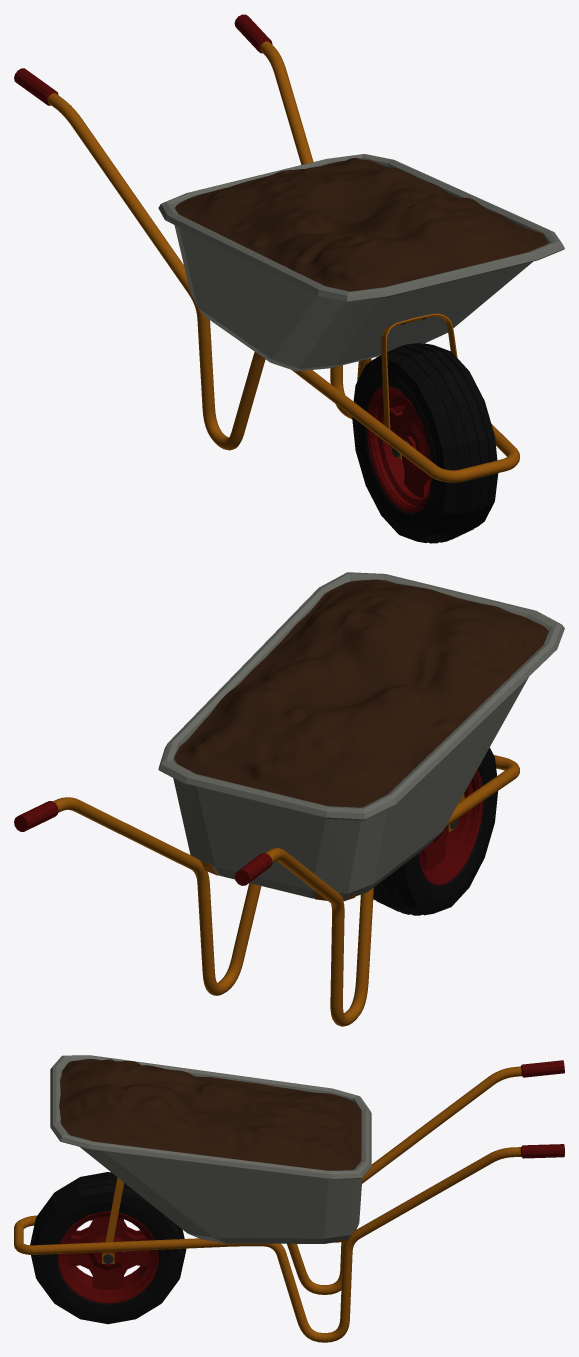
3 renders of one model, top to bottom at view 1: azimuth 30°, elevation 25°; view 2: azimuth 150°, elevation 25°; view 3: azimuth 270°, elevation 25°, orthographic. The views are drawn at different scales.
Parts seen in each view (by area): view 1: am146_22_05, am146_22_06, am146_22_15, am146_22_14, am146_22_12, am146_22_09, am146_22_13, am146_22_08; view 2: am146_22_05, am146_22_06, am146_22_14, am146_22_15, am146_22_12, am146_22_08, am146_22_13; view 3: am146_22_05, am146_22_06, am146_22_14, am146_22_15, am146_22_12, am146_22_09, am146_22_08, am146_22_13.
Part boxes in pixels (box(x1,y1,x2,y2)): am146_22_05: box(175, 157, 547, 291); am146_22_06: box(158, 154, 564, 371); am146_22_15: box(352, 343, 498, 543); am146_22_14: box(47, 41, 519, 482); am146_22_12: box(366, 386, 431, 513); am146_22_09: box(381, 313, 457, 459); am146_22_13: box(14, 68, 58, 105); am146_22_08: box(234, 14, 272, 53); am146_22_05: box(174, 579, 548, 807); am146_22_06: box(158, 572, 564, 900); am146_22_14: box(53, 755, 519, 1026); am146_22_15: box(373, 747, 497, 915); am146_22_12: box(419, 769, 483, 885); am146_22_08: box(14, 801, 58, 831); am146_22_13: box(234, 853, 272, 885); am146_22_05: box(59, 1059, 361, 1170); am146_22_06: box(50, 1055, 371, 1243); am146_22_14: box(14, 1066, 521, 1342); am146_22_15: box(30, 1172, 186, 1324); am146_22_12: box(57, 1211, 158, 1303); am146_22_09: box(102, 1177, 123, 1263); am146_22_08: box(520, 1144, 564, 1158); am146_22_13: box(521, 1060, 564, 1077).
Size of the model in its own units: 60.66 by 74.99 by 156.
